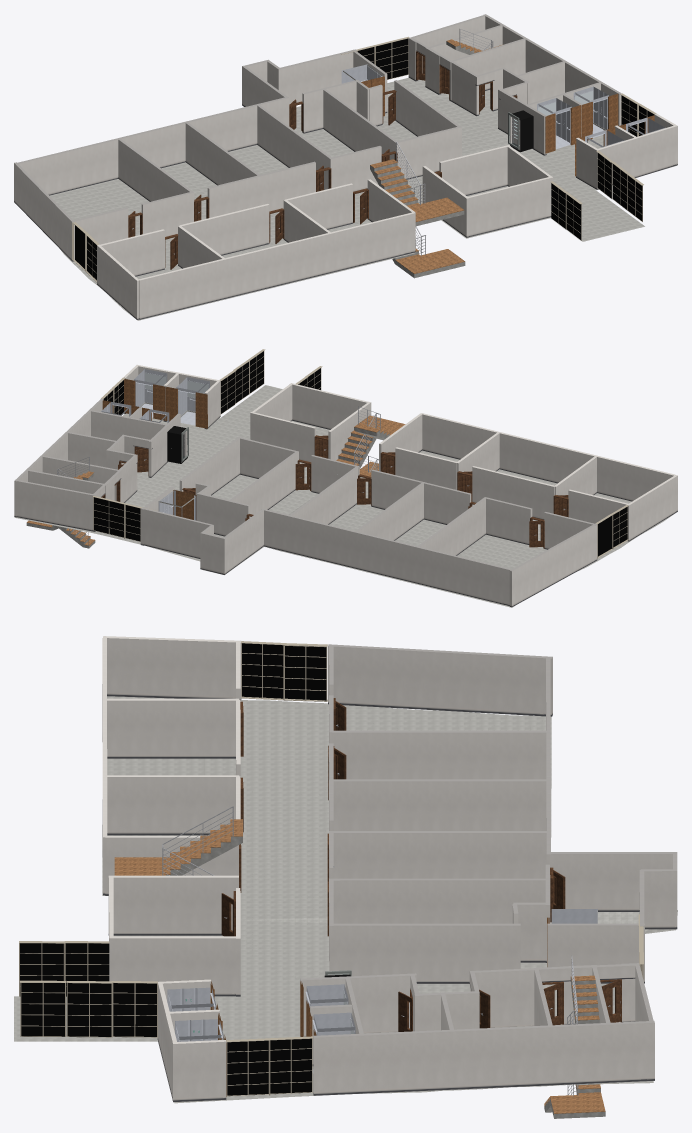
File: TorreInnovacionConexion_v2.glb
3 views of the same model, one above another, from view 1: azimuth 30°, elevation 25°; view 2: azimuth 150°, elevation 25°; view 3: azimuth 270°, elevation 25° (orthographic). The views are drawn at different scales.
Visible parts, largest first — view 1: Piso, Paredes.028, Paredes.001, Paredes.024, Paredes.029, Paredes.022, Cubo.028, Paredes.012, Paredes.011, Paredes.021, Paredes.013, Paredes.005 (+43 smaller); view 2: Piso, Paredes.001, Paredes.028, Paredes.022, Cubo.017, Paredes.029, Paredes.005, Paredes.024, Paredes.021, Paredes.011, Paredes.031, Paredes.013 (+42 smaller); view 3: Piso, Cubo.016, Paredes.022, Paredes.013, Paredes.014, Paredes.012, Paredes.010, Paredes.011, Paredes.031, Paredes.030, Paredes.027, Paredes (+33 smaller).
Part boxes in pixels (x1,y1,x2,y2): Piso: (15,77,676,320); Paredes.028: (139,212,415,319); Paredes.001: (15,97,289,195); Paredes.024: (467,177,553,236); Paredes.029: (179,204,269,255); Paredes.022: (14,162,74,261); Cubo.028: (598,125,675,184); Paredes.012: (257,104,331,189); Paredes.011: (323,89,398,166); Paredes.021: (439,145,509,195); Paredes.013: (185,121,259,185); Paredes.005: (278,49,356,104); Piso: (14,413,673,607); Paredes.001: (261,508,513,605); Paredes.028: (421,413,675,501); Paredes.022: (509,523,597,607); Cubo.017: (17,480,94,531); Paredes.029: (472,466,554,519); Paredes.005: (140,507,212,558); Paredes.024: (291,383,369,429); Paredes.021: (250,412,315,462); Paredes.011: (229,451,298,517); Paredes.031: (627,475,677,541); Paredes.013: (355,483,423,540); Piso: (66,696,677,1103); Cubo.016: (313,1021,654,1095); Paredes.022: (328,644,552,716); Paredes.013: (332,779,548,830); Paredes.014: (332,730,546,779); Paredes.012: (333,831,548,878); Paredes.010: (329,923,520,983); Paredes.011: (329,878,545,923); Paredes.031: (103,636,241,700); Paredes.030: (107,698,238,758); Paredes.027: (105,775,239,835); Paredes: (108,875,238,935).
Bounding box in the file's own units: 95.87 × 20.54 × 65.94.
Materials: 50 (9 with a texture image).
